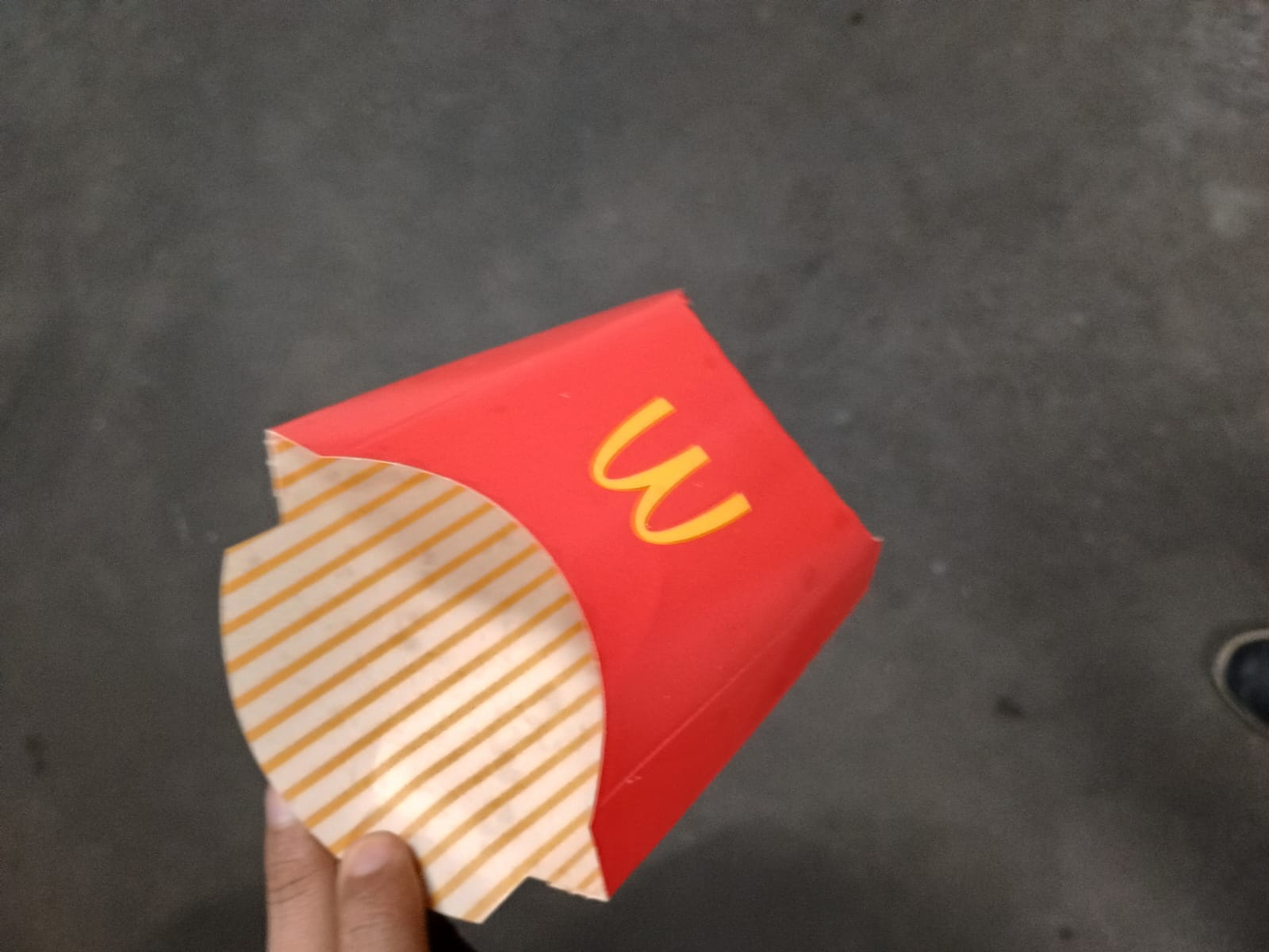Carton: (218, 289, 877, 928)
